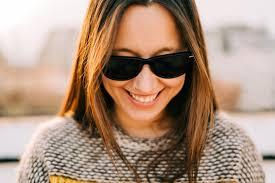sunglasses: (97, 48, 198, 82)
